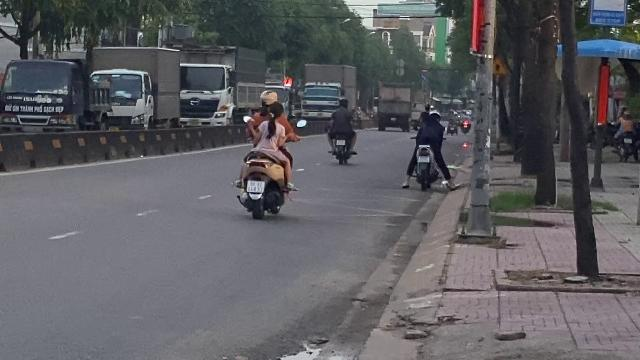helmet: (259, 89, 279, 107)
licenseplate: (247, 181, 263, 192)
motorcyclist: (232, 89, 298, 219)
nohelmet: (267, 102, 285, 122)
